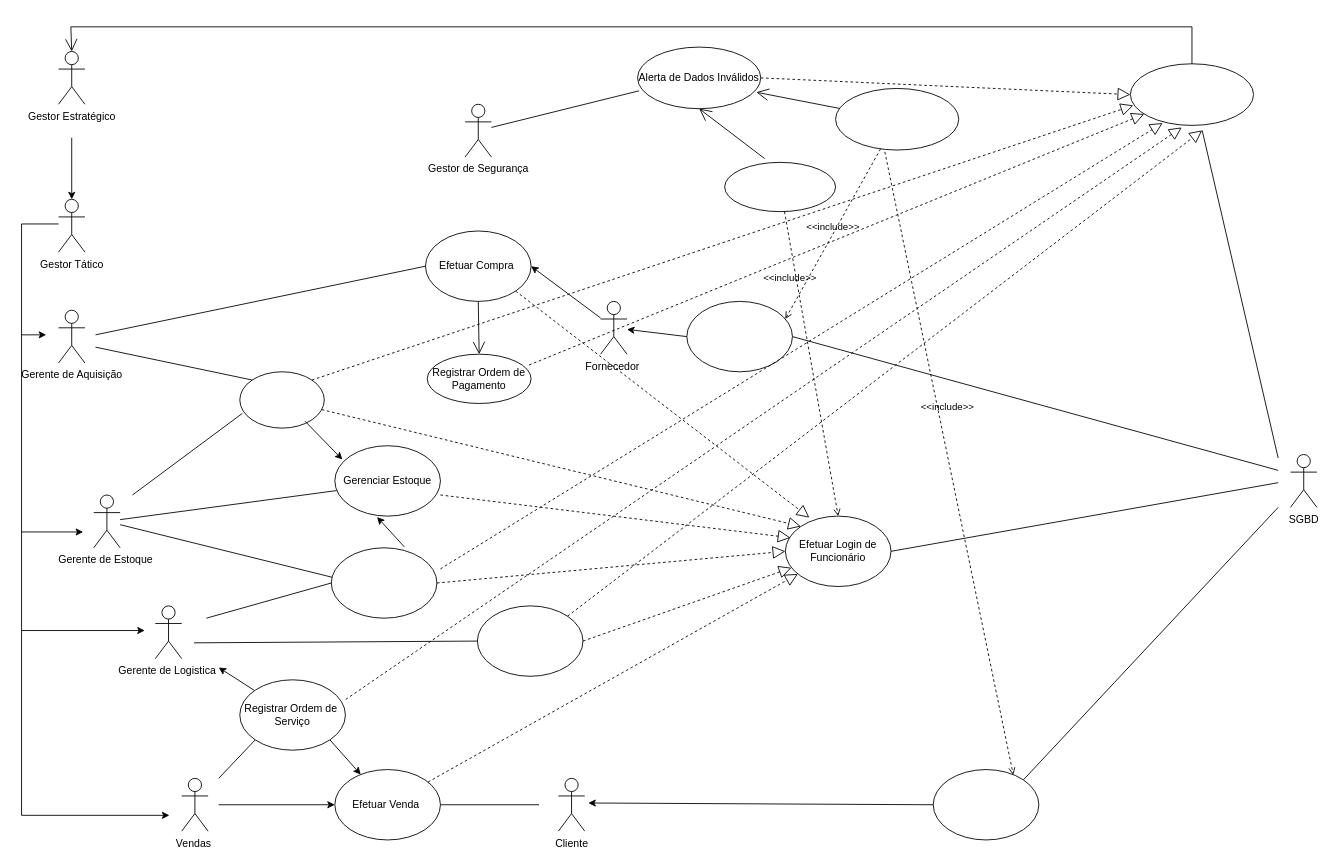
Image size: 1334x865. Some labels were removed from this diagram. Each missing label, with the centre of its shape:
"Cadastro de Cliente" goes at (985,804).
"Cadastro de Fornecedor" goes at (739,336).
"Gerar Relatório" goes at (1191,94).
"Registrar Ordem de Transporte" goes at (530,640).
"Solicitar Baixa" goes at (383,582).
"Solicitar Entrada" goes at (281,399).
"Validar Cadastro" goes at (897,119).
"Validar Login" goes at (780,186).
